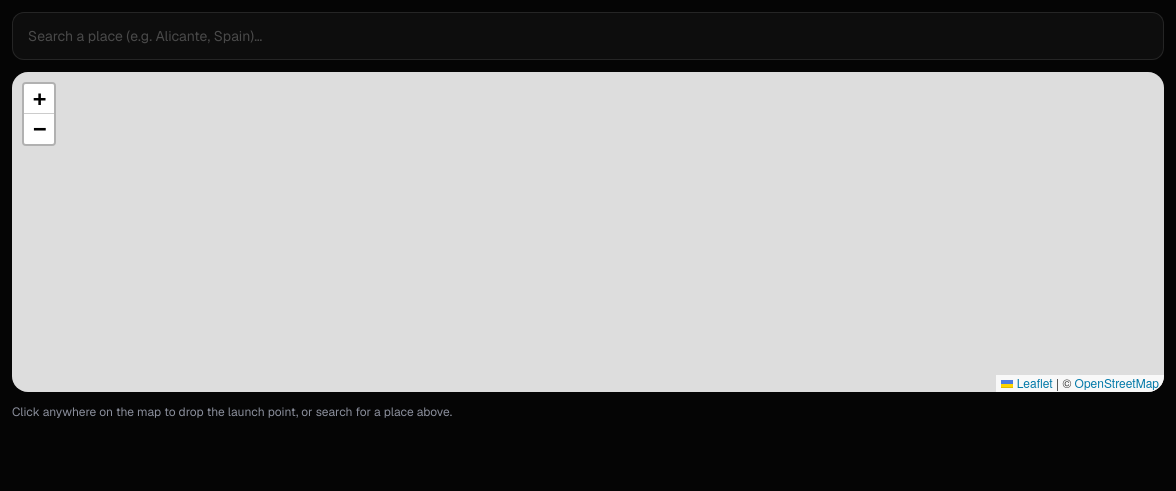
SitePicker (issues #55 — geocode proxy, #54 — i18n leak sweep) › clears a previous search error once a new search succeeds
The image size is (1176, 491).
Type "Nowhereville" into the search field with placeholder "Search a place (e.g. Alicante, Spain)…" at (588, 36), box [12,12,1164,60]
Wait 400 ms
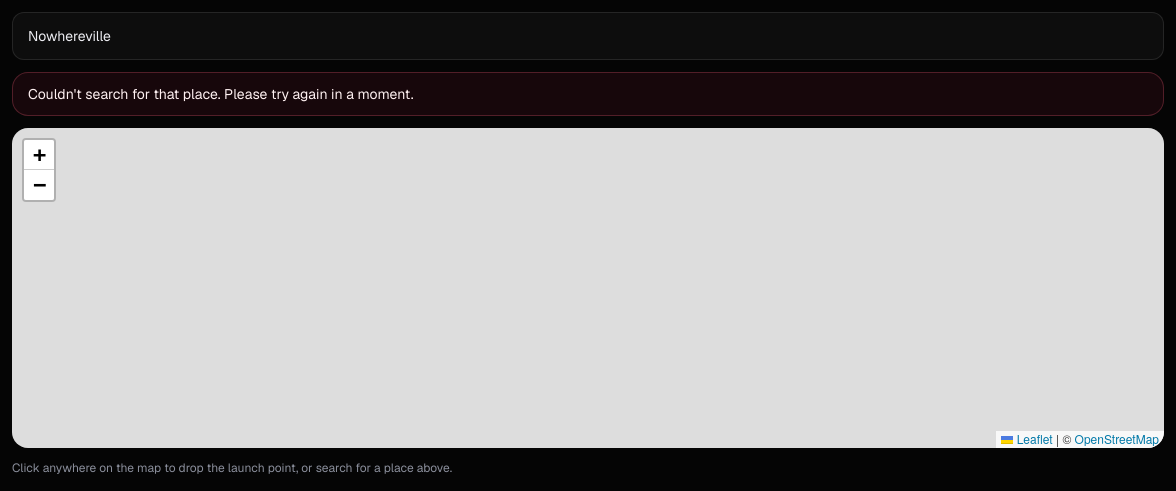
expect the text "Couldn't search for that place. Please try again in a moment." is shown: met, box [28,85,414,103]
Replace the text in the search field with placeholder "Search a place (e.g. Alicante, Spain)…" with "Somewhereville" at (588, 36), box [12,12,1164,60]
Wait 400 ms
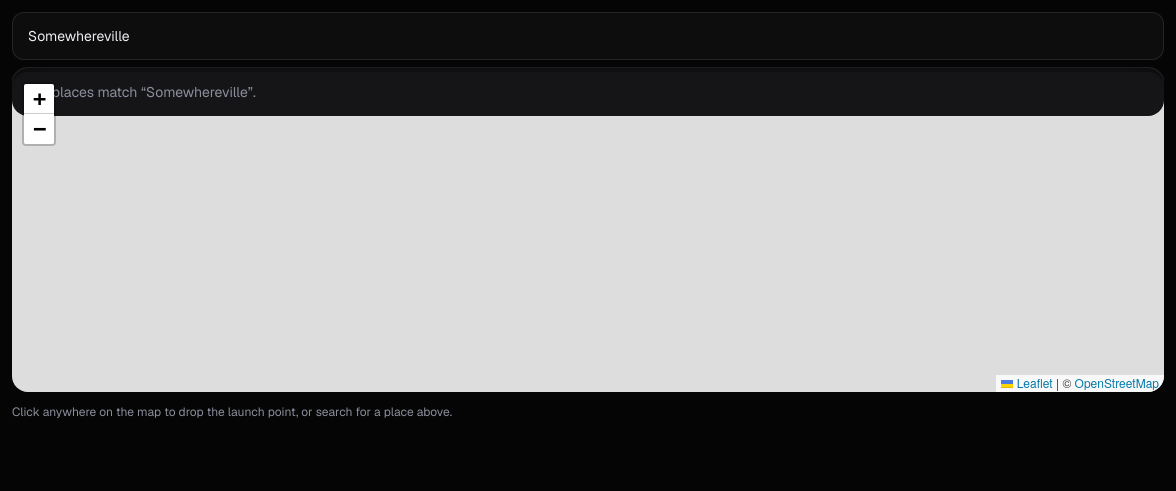
expect the text "Couldn't search for that place. Please try again in a moment." is gone: met
